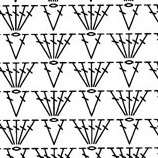chain: (49, 117, 59, 123)
enseble_chain: (122, 85, 158, 122), (86, 114, 122, 151), (7, 115, 43, 151), (46, 86, 82, 122), (47, 29, 82, 66), (123, 28, 156, 64), (86, 58, 119, 94), (11, 59, 43, 94), (67, 113, 97, 150), (29, 86, 59, 122), (67, 58, 95, 93), (83, 88, 112, 121), (106, 86, 134, 120), (67, 1, 95, 35), (6, 89, 35, 121), (44, 3, 72, 35), (123, 117, 150, 149), (112, 55, 136, 91), (32, 30, 58, 63), (8, 32, 35, 63), (122, 60, 148, 91), (48, 118, 74, 149), (122, 3, 148, 34), (84, 32, 109, 63), (113, 0, 135, 33), (48, 61, 72, 91), (9, 4, 26, 32), (87, 4, 104, 30)
fan: (68, 58, 95, 92), (33, 86, 58, 119), (75, 32, 97, 63), (47, 90, 63, 117), (85, 61, 100, 88), (9, 120, 23, 146)
